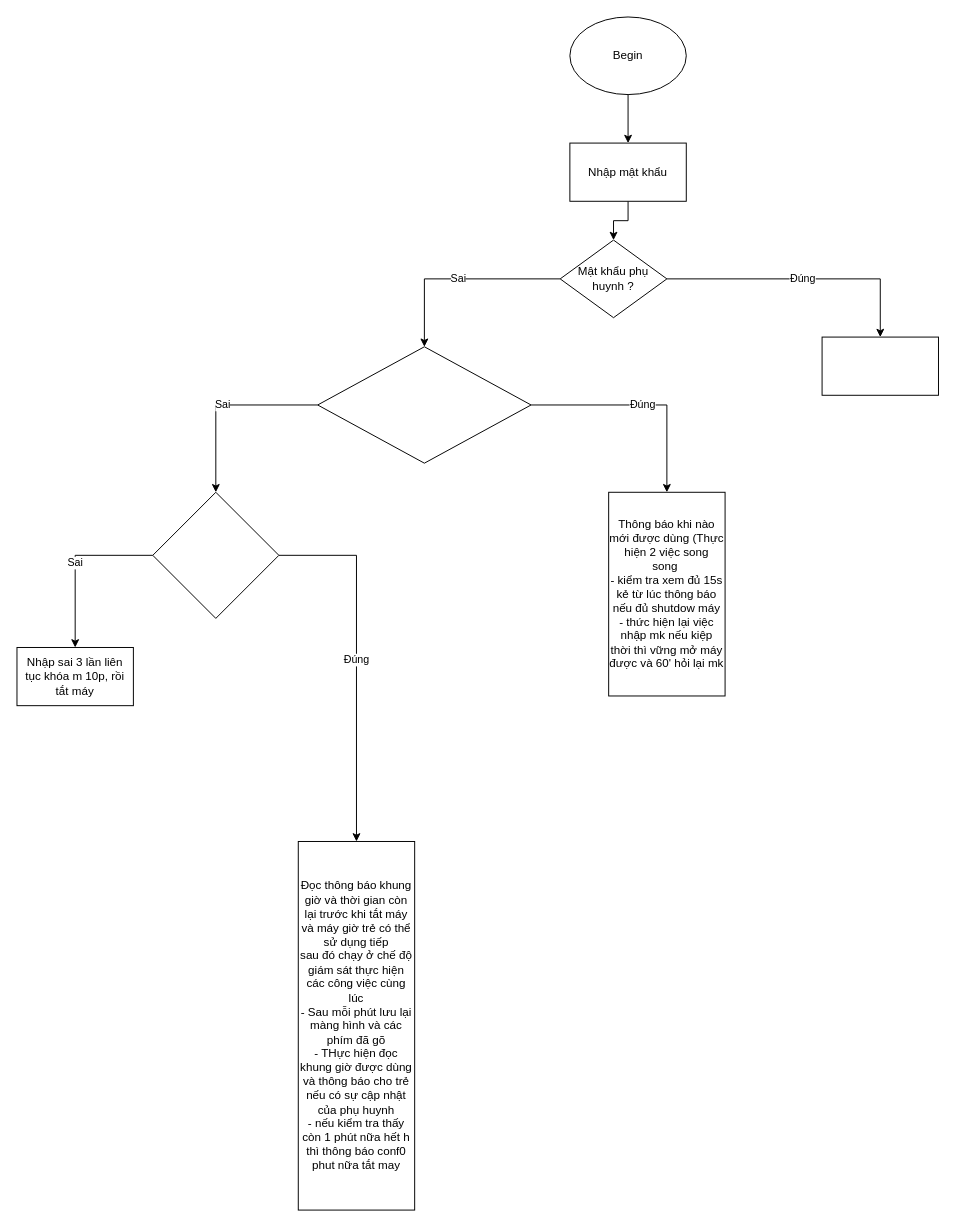
This 955x1227 diagram has some shape labels left out. The box of each missing label's shape, as (x1, y1, x2, y2) in pixels:
60' sau hỏi lại mk: (821, 336, 938, 395)
Kiểm tra có nằm trong khung thời gian chua được dùng hay không?: (317, 346, 531, 463)
Kiểm tra có phải là mk của trẻ hay k?: (152, 491, 279, 618)
